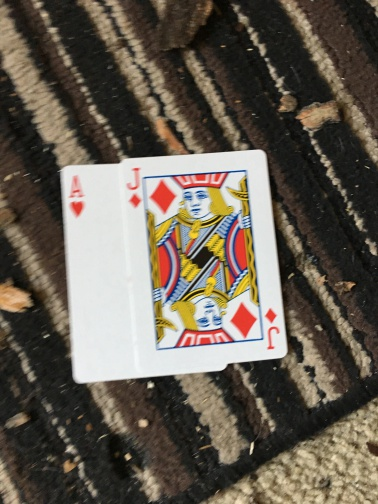ace: (56, 164, 126, 384)
jack: (122, 149, 288, 368)
